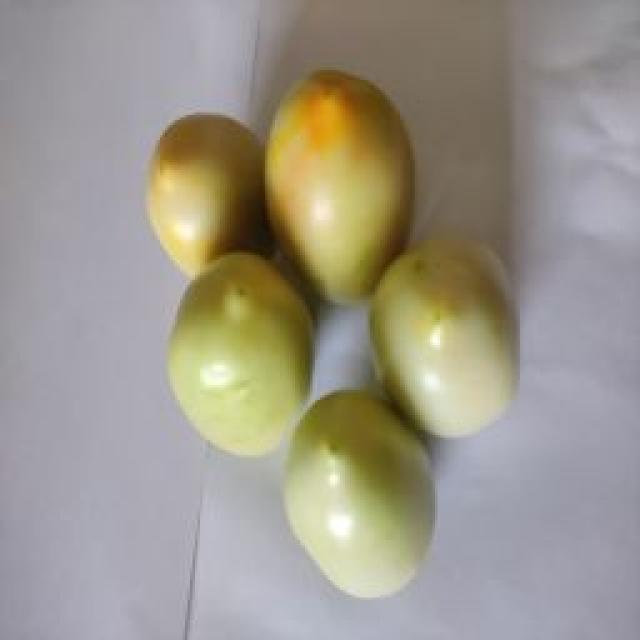tomato: (268, 73, 416, 304), (283, 381, 436, 602), (168, 253, 318, 459), (376, 239, 518, 438), (147, 110, 275, 284)
